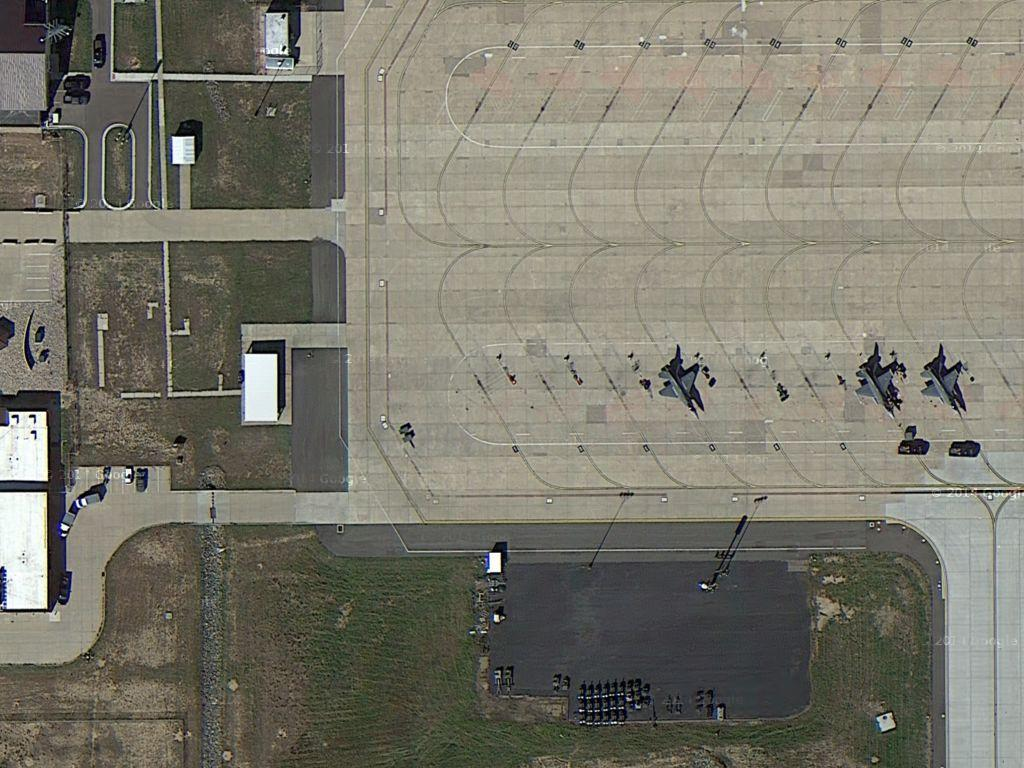F-16: (852, 353, 904, 423), (918, 351, 968, 417), (655, 359, 708, 416)
